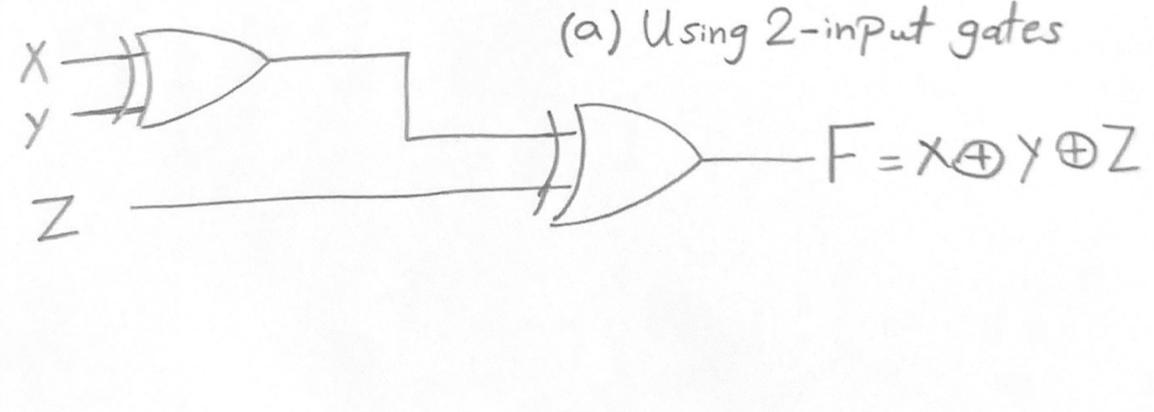XOR: (524, 89, 727, 239), (107, 16, 283, 148)
